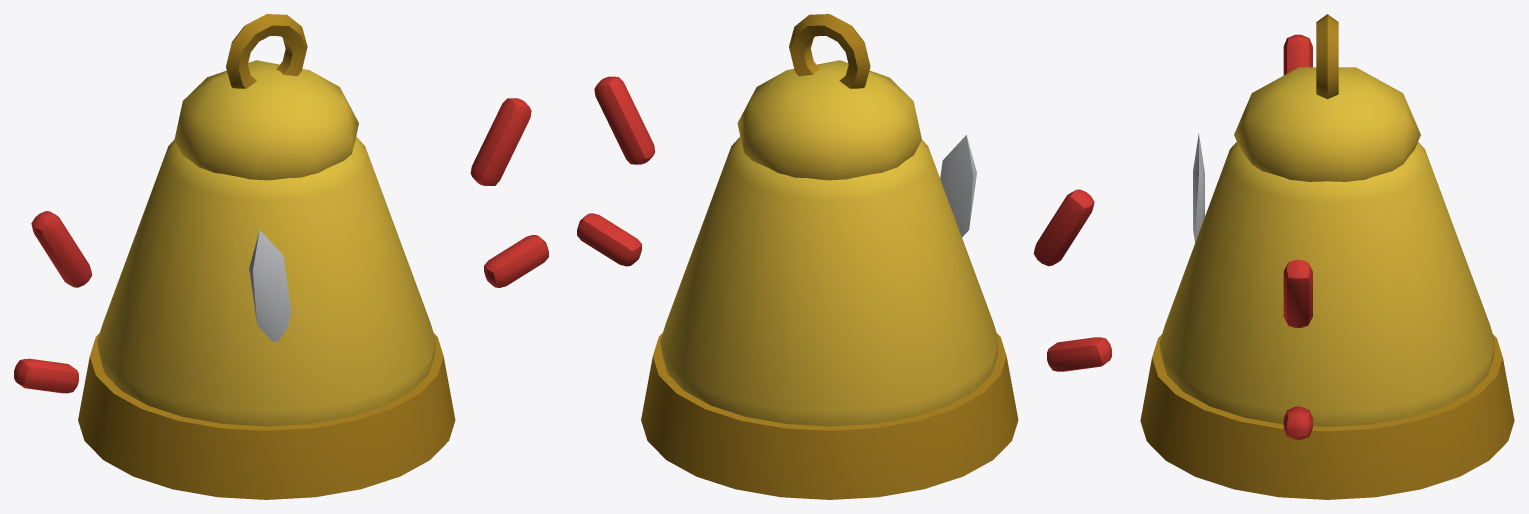
Rendered from ui_event.glb.
3 renders of one model, left to right at view 1: azimuth 30°, elevation 25°; view 2: azimuth 150°, elevation 25°; view 3: azimuth 270°, elevation 25°, orthographic.
Parts seen in each view (by area): view 1: body; view 2: body; view 3: body.
Part boxes in pixels (bbox=[...]): body: bbox=[14, 14, 548, 499]; body: bbox=[577, 14, 1111, 499]; body: bbox=[1140, 14, 1514, 499].
Bounding box in the file's own units: 0.5181 × 0.425 × 0.32.
